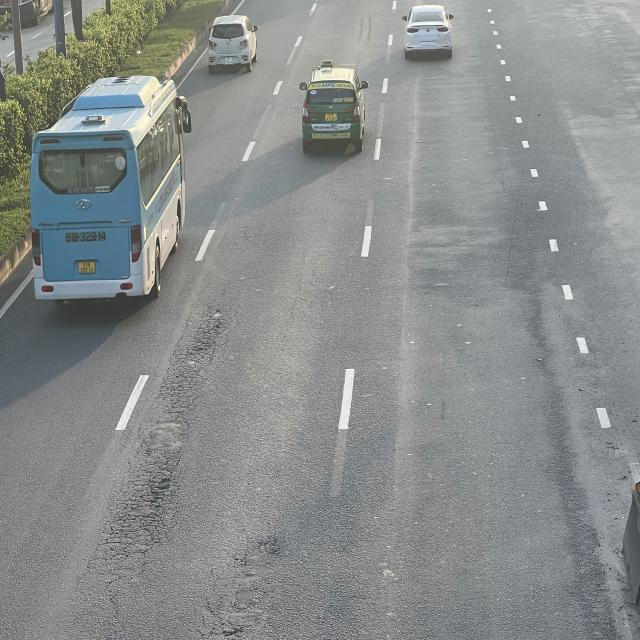car: (301, 64, 370, 154), (400, 2, 454, 56), (206, 12, 256, 68)
coach: (34, 70, 195, 304)
